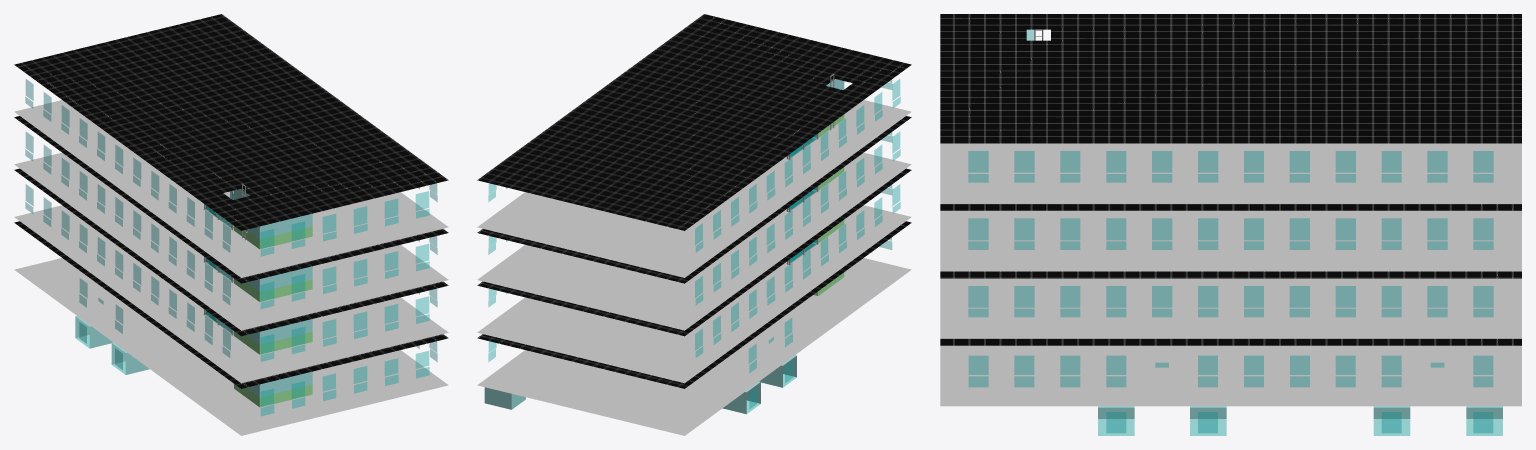
The model's file is SM_Building09_V1_Interior.fbx.
3 renders of one model, left to right at view 1: azimuth 30°, elevation 25°; view 2: azimuth 150°, elevation 25°; view 3: azimuth 270°, elevation 25°, orthographic. The views are drawn at different scales.
Parts seen in each view (by area): view 1: SM_Building09_V1_Interior; view 2: SM_Building09_V1_Interior; view 3: SM_Building09_V1_Interior.
Part boxes in pixels (x1=…): SM_Building09_V1_Interior: x1=14, y1=14, x2=448, y2=435; SM_Building09_V1_Interior: x1=477, y1=14, x2=911, y2=435; SM_Building09_V1_Interior: x1=940, y1=14, x2=1521, y2=435.
Size of the model in its own units: 1675 by 1817 by 3169.
